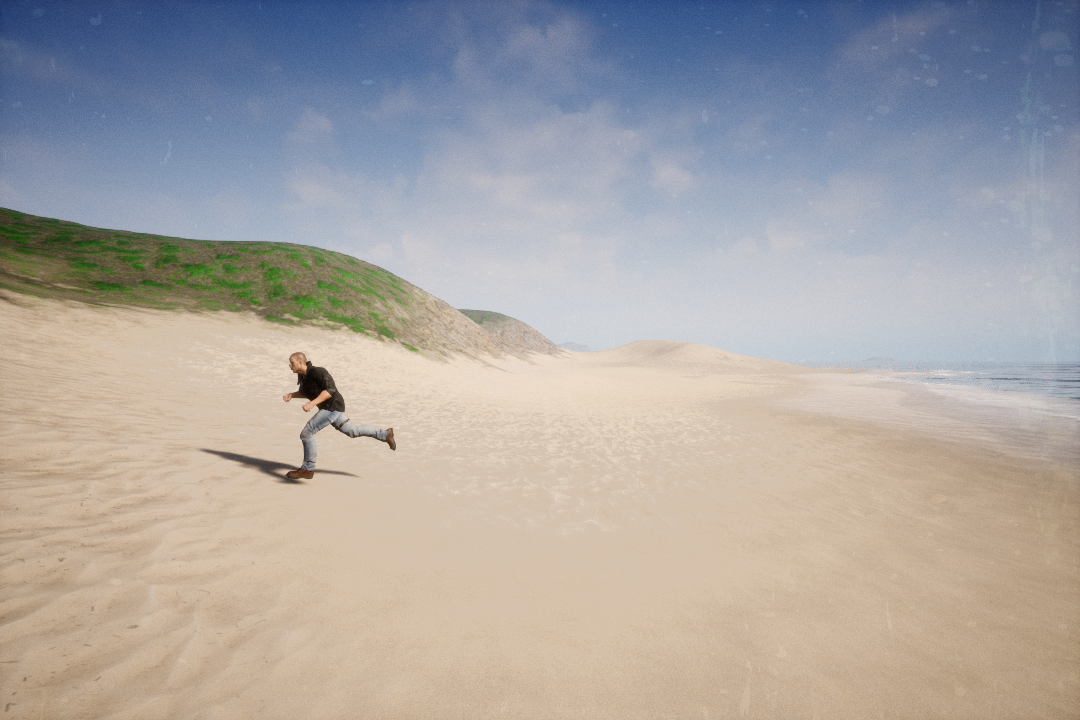person: (278, 345, 397, 486)
